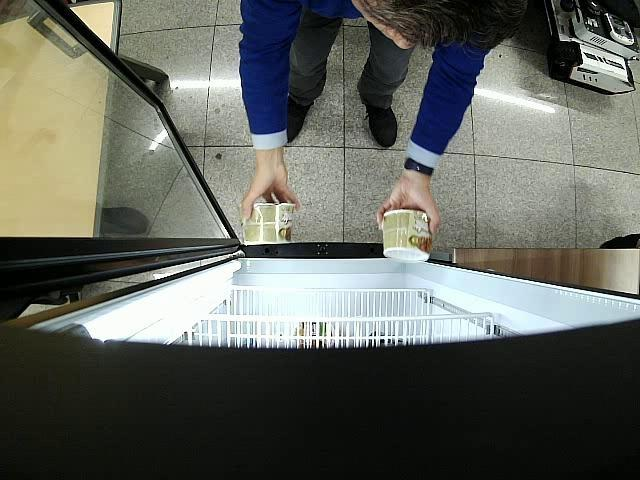03_chapagetti_L: (380, 211, 432, 263), (240, 202, 294, 246)
